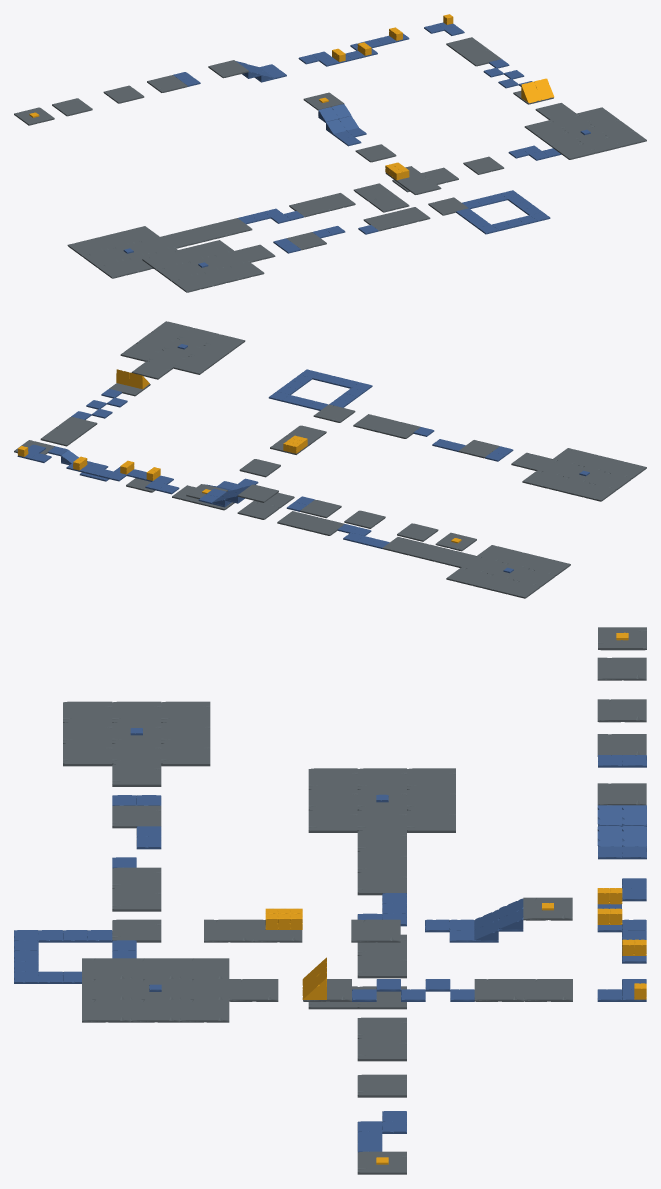
File: the-collector-collision.glb
3 views of the same model, one above another, from view 1: azimuth 30°, elevation 25°; view 2: azimuth 150°, elevation 25°; view 3: azimuth 270°, elevation 25° (orthographic). The views are drawn at different scales.
Parts seen in each view (by area): view 1: SM_PolygonPrototype_Buildings_Column_2x3_01P.009, SM_PolygonPrototype_Buildings_Column_2x3_01P.050, SM_PolygonPrototype_Buildings_Column_2x3_01P.056, SM_PolygonPrototype_Buildings_Column_2x3_01P.034, SM_PolygonPrototype_Buildings_Column_2x3_01P.036, SM_PolygonPrototype_Buildings_Column_2x3_01P.053, SM_PolygonPrototype_Buildings_Column_2x3_01P.028, SM_PolygonPrototype_Buildings_Column_2x3_01P.052, SM_PolygonPrototype_Buildings_Column_2x3_01P.017, SM_PolygonPrototype_Buildings_Column_2x3_01P.045, SM_PolygonPrototype_Buildings_Column_2x3_01P.051, SM_PolygonPrototype_Buildings_Column_2x3_01P.031 (+25 smaller); view 2: SM_PolygonPrototype_Buildings_Column_2x3_01P.033, SM_PolygonPrototype_Buildings_Column_2x3_01P.008, SM_PolygonPrototype_Buildings_Column_2x3_01P.027, SM_PolygonPrototype_Buildings_Column_2x3_01P.051, SM_PolygonPrototype_Buildings_Column_2x3_01P.053, SM_PolygonPrototype_Buildings_Column_2x3_01P.014, SM_PolygonPrototype_Buildings_Column_2x3_01P.050, SM_PolygonPrototype_Buildings_Column_2x3_01P.039, SM_PolygonPrototype_Buildings_Column_2x3_01P.041, SM_PolygonPrototype_Buildings_Column_2x3_01P.049, SM_PolygonPrototype_Buildings_Column_2x3_01P.052, SM_PolygonPrototype_Buildings_Column_2x3_01P.036 (+32 smaller); view 3: SM_PolygonPrototype_Buildings_Column_2x3_01P.022, SM_PolygonPrototype_Buildings_Column_2x3_01P.023, SM_PolygonPrototype_Buildings_Column_2x3_01P.013, SM_PolygonPrototype_Buildings_Column_2x3_01P.016, SM_PolygonPrototype_Buildings_Column_2x3_01P.032, SM_PolygonPrototype_Buildings_Column_2x3_01P.040, SM_PolygonPrototype_Buildings_Column_2x3_01P.017, SM_PolygonPrototype_Buildings_Column_2x3_01P.034, SM_PolygonPrototype_Buildings_Column_2x3_01P.036, SM_PolygonPrototype_Buildings_Column_2x3_01P.052, SM_PolygonPrototype_Buildings_Column_2x3_01P.053, SM_PolygonPrototype_Buildings_Column_2x3_01P.043 (+41 smaller).
Boxes of the visible parts, x1,y1,x2,y2 form: SM_PolygonPrototype_Buildings_Column_2x3_01P.009: [97, 260, 138, 278]; SM_PolygonPrototype_Buildings_Column_2x3_01P.050: [208, 60, 248, 78]; SM_PolygonPrototype_Buildings_Column_2x3_01P.056: [368, 194, 409, 212]; SM_PolygonPrototype_Buildings_Column_2x3_01P.034: [400, 177, 441, 194]; SM_PolygonPrototype_Buildings_Column_2x3_01P.036: [355, 144, 396, 162]; SM_PolygonPrototype_Buildings_Column_2x3_01P.053: [52, 98, 92, 116]; SM_PolygonPrototype_Buildings_Column_2x3_01P.028: [172, 274, 212, 292]; SM_PolygonPrototype_Buildings_Column_2x3_01P.052: [103, 85, 144, 103]; SM_PolygonPrototype_Buildings_Column_2x3_01P.017: [463, 156, 504, 174]; SM_PolygonPrototype_Buildings_Column_2x3_01P.045: [554, 142, 595, 159]; SM_PolygonPrototype_Buildings_Column_2x3_01P.051: [147, 75, 187, 92]; SM_PolygonPrototype_Buildings_Column_2x3_01P.031: [363, 213, 404, 231]; SM_PolygonPrototype_Buildings_Column_2x3_01P.033: [313, 404, 355, 422]; SM_PolygonPrototype_Buildings_Column_2x3_01P.008: [499, 580, 540, 598]; SM_PolygonPrototype_Buildings_Column_2x3_01P.027: [575, 483, 616, 501]; SM_PolygonPrototype_Buildings_Column_2x3_01P.051: [300, 499, 341, 518]; SM_PolygonPrototype_Buildings_Column_2x3_01P.053: [397, 523, 438, 541]; SM_PolygonPrototype_Buildings_Column_2x3_01P.014: [237, 501, 279, 519]; SM_PolygonPrototype_Buildings_Column_2x3_01P.050: [237, 484, 278, 502]; SM_PolygonPrototype_Buildings_Column_2x3_01P.039: [131, 361, 173, 379]; SM_PolygonPrototype_Buildings_Column_2x3_01P.041: [173, 356, 214, 374]; SM_PolygonPrototype_Buildings_Column_2x3_01P.049: [40, 428, 81, 446]; SM_PolygonPrototype_Buildings_Column_2x3_01P.052: [344, 510, 385, 528]; SM_PolygonPrototype_Buildings_Column_2x3_01P.036: [239, 459, 280, 477]; SM_PolygonPrototype_Buildings_Column_2x3_01P.022: [63, 743, 112, 766]; SM_PolygonPrototype_Buildings_Column_2x3_01P.023: [161, 743, 210, 766]; SM_PolygonPrototype_Buildings_Column_2x3_01P.013: [357, 955, 406, 978]; SM_PolygonPrototype_Buildings_Column_2x3_01P.016: [357, 1038, 406, 1061]; SM_PolygonPrototype_Buildings_Column_2x3_01P.032: [112, 888, 161, 911]; SM_PolygonPrototype_Buildings_Column_2x3_01P.040: [180, 999, 229, 1022]; SM_PolygonPrototype_Buildings_Column_2x3_01P.017: [357, 1074, 406, 1097]; SM_PolygonPrototype_Buildings_Column_2x3_01P.034: [204, 919, 253, 942]; SM_PolygonPrototype_Buildings_Column_2x3_01P.036: [351, 919, 400, 942]; SM_PolygonPrototype_Buildings_Column_2x3_01P.052: [597, 699, 646, 722]; SM_PolygonPrototype_Buildings_Column_2x3_01P.053: [597, 657, 646, 680]; SM_PolygonPrototype_Buildings_Column_2x3_01P.043: [131, 999, 179, 1022].
Bounding box in the file's own units: 80 × 13.4 × 51.55.
Materials: 3 (3 with a texture image).
